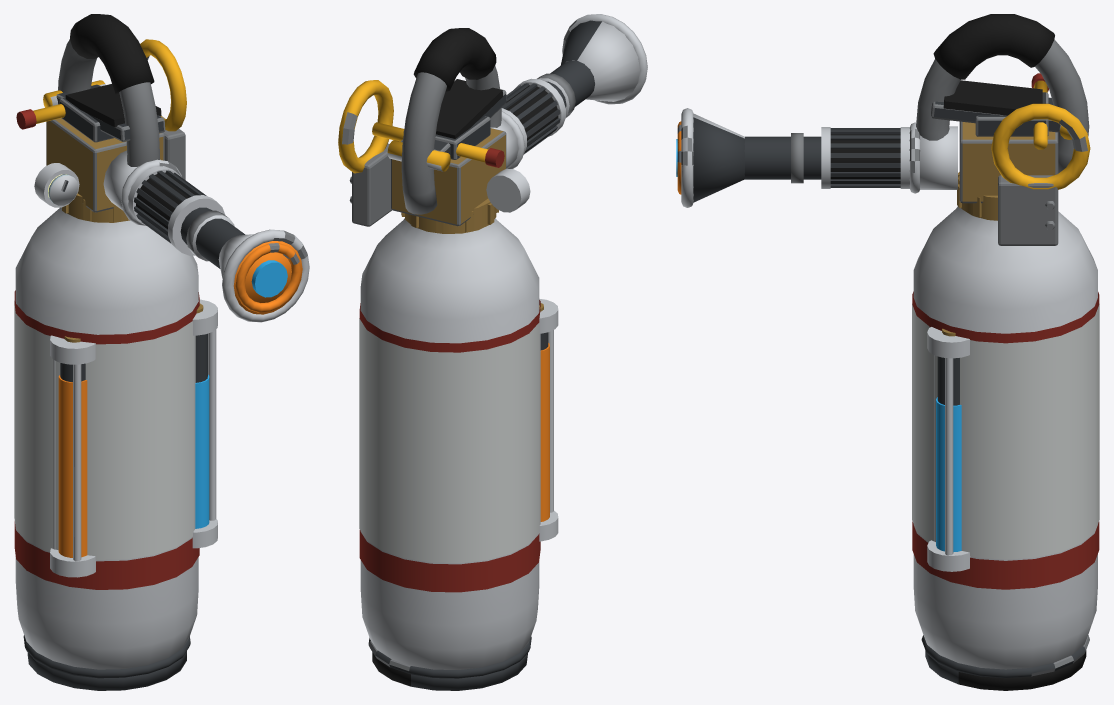
Rendered from portal_gun.fbx.
3 views of the same model, side by side, from view 1: azimuth 30°, elevation 25°; view 2: azimuth 150°, elevation 25°; view 3: azimuth 270°, elevation 25° (orthographic). The views are drawn at different scales.
Parts seen in each view (by area): view 1: Mesh_PortalGun_Extinguisher; view 2: Mesh_PortalGun_Extinguisher; view 3: Mesh_PortalGun_Extinguisher.
Part boxes in pixels (box(x1,y1,x2,y2)): Mesh_PortalGun_Extinguisher: box(14, 14, 309, 690); Mesh_PortalGun_Extinguisher: box(338, 14, 647, 690); Mesh_PortalGun_Extinguisher: box(676, 14, 1099, 690).
Bounding box in the file's own units: 11.78 × 44.45 × 26.59.
